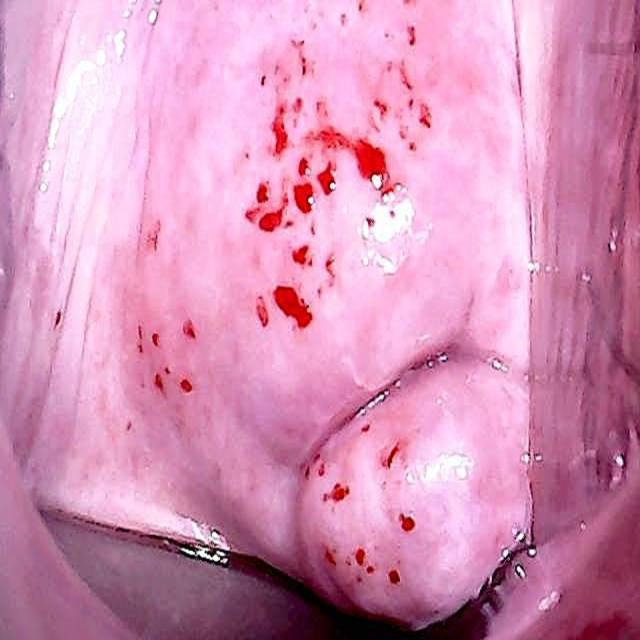cervical_lesion: (25, 12, 529, 631)
